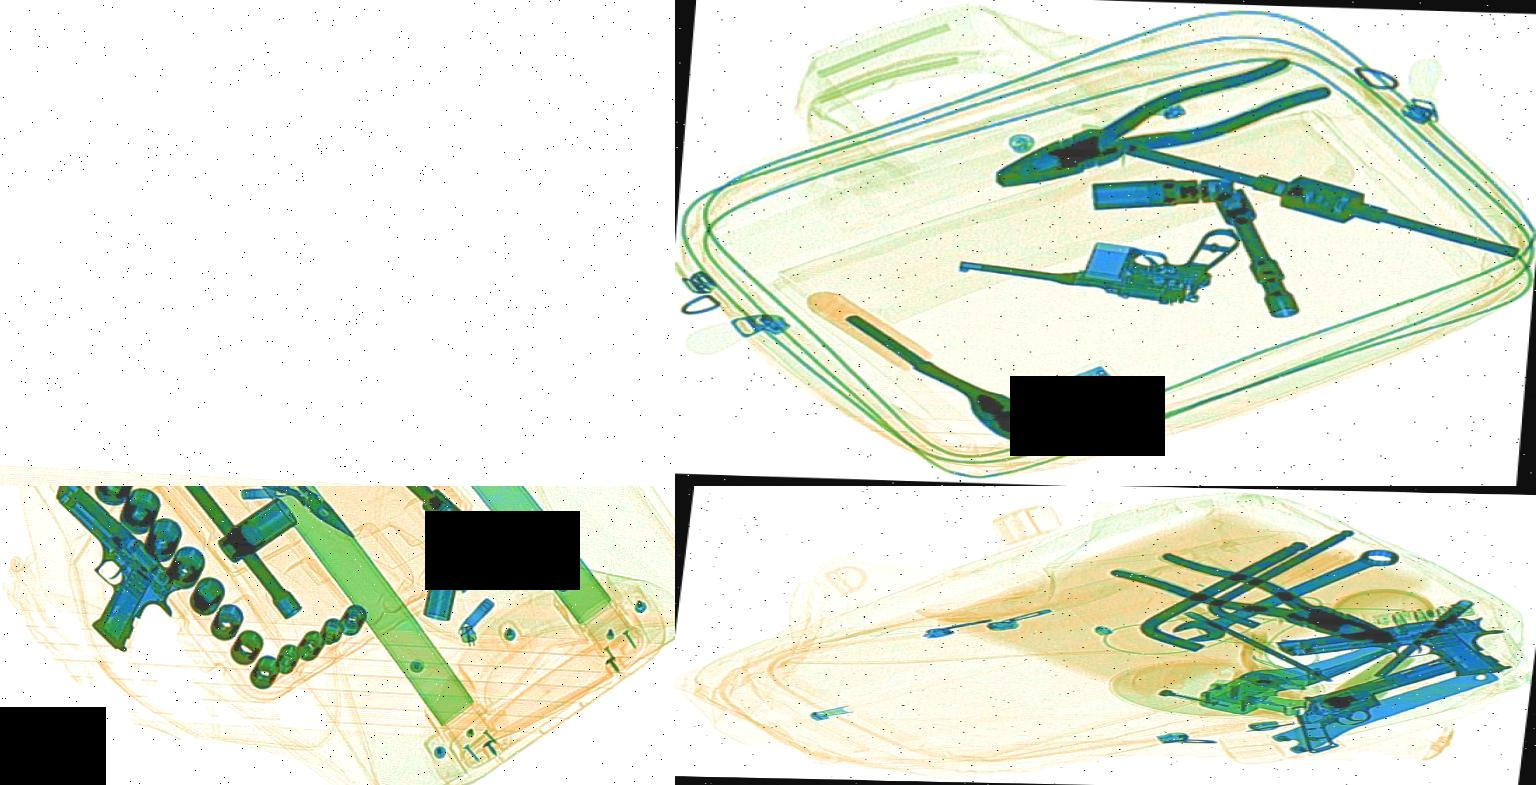Gun: (0, 486, 205, 659), (947, 193, 1247, 309), (1216, 654, 1534, 760), (1259, 609, 1536, 696)
Pliers: (966, 41, 1343, 212), (1095, 549, 1429, 655), (211, 486, 377, 551)
Wrench: (1159, 543, 1424, 649)
